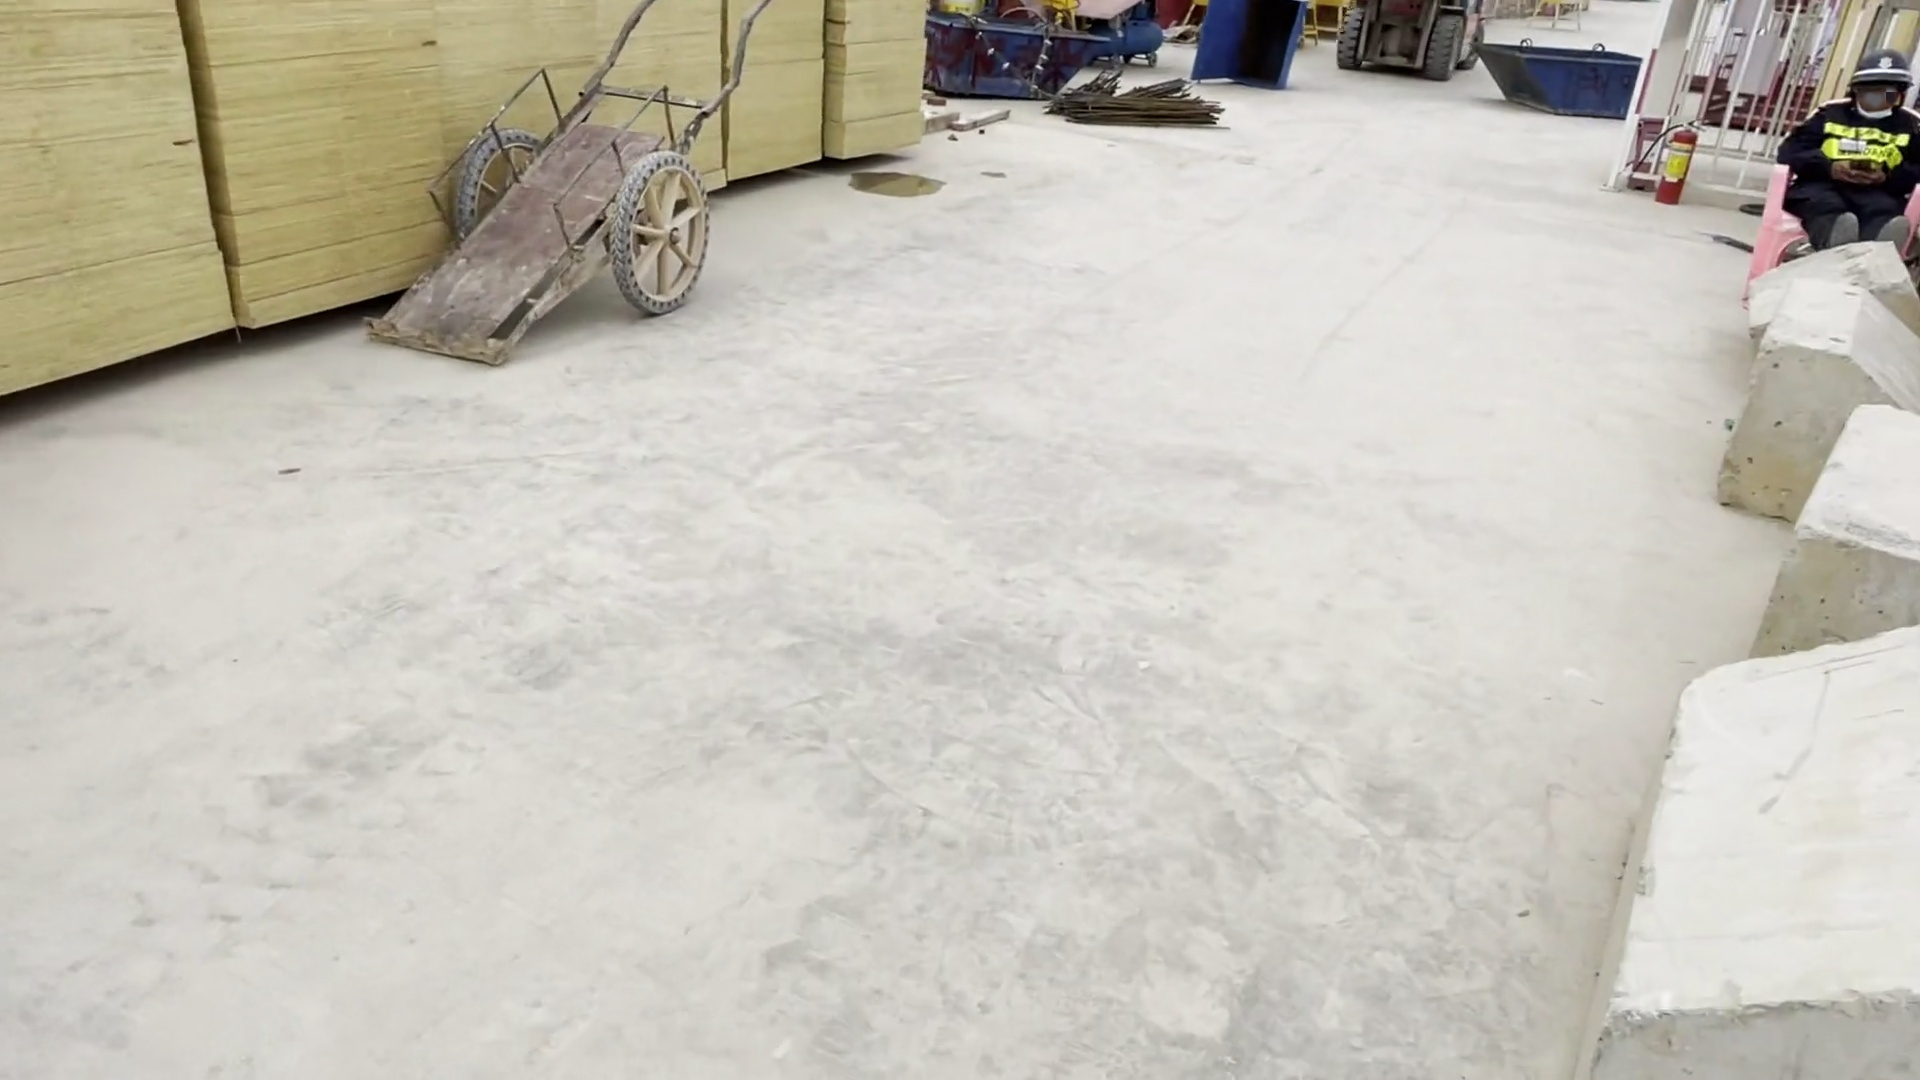handcart: (352, 1, 778, 376)
person: (1760, 39, 1920, 249)
